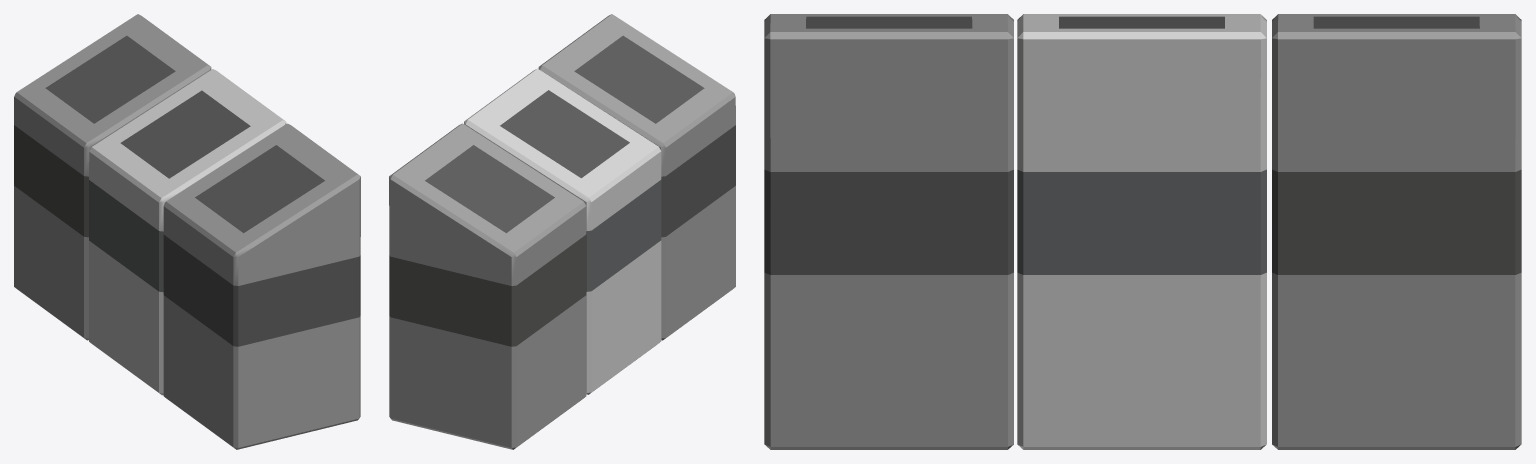
File: Bins_01.fbx
The picture shows the model from 3 angles, left to right: view 1: azimuth 30°, elevation 25°; view 2: azimuth 150°, elevation 25°; view 3: azimuth 270°, elevation 25°; orthographic projection. The views are drawn at different scales.
Parts seen in each view (by area): view 1: Bins_01; view 2: Bins_01; view 3: Bins_01.
Boxes of the visible parts, left/top/right/bottom form: Bins_01: left=14, top=14, right=360, bottom=449; Bins_01: left=389, top=14, right=735, bottom=449; Bins_01: left=764, top=14, right=1521, bottom=449.
Size of the model in its own units: 157 by 291 by 478.
